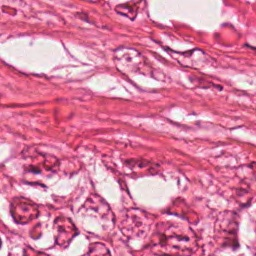mitosis: (197, 190, 207, 200)
